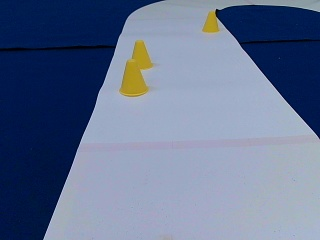cone: (119, 60, 148, 95), (131, 41, 152, 69), (202, 11, 218, 32)
